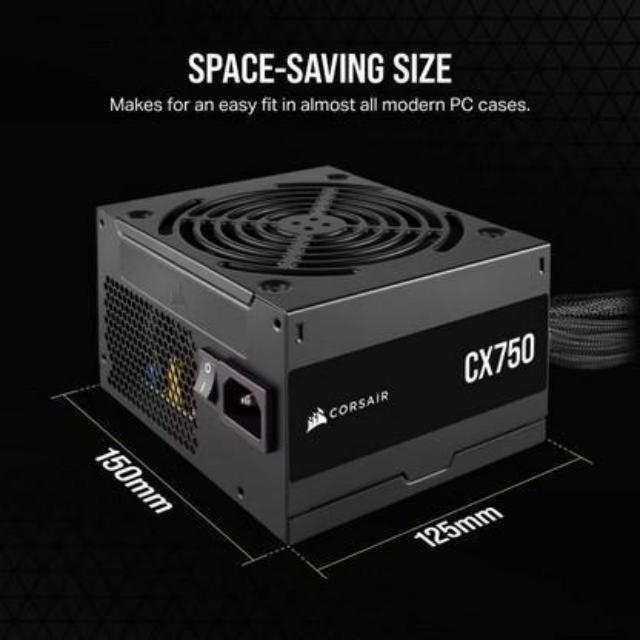PSU: (85, 159, 560, 550)
